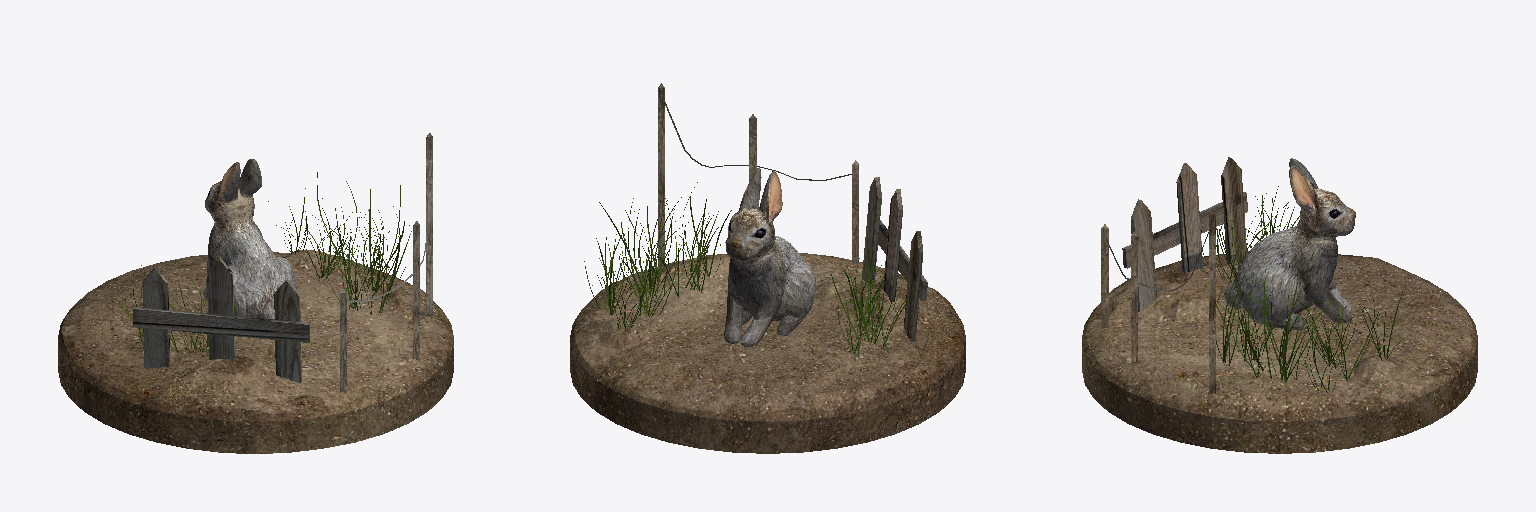
3 views of the same model, side by side, from view 1: azimuth 30°, elevation 25°; view 2: azimuth 150°, elevation 25°; view 3: azimuth 270°, elevation 25° (orthographic).
Parts seen in each view (by area): view 1: group1_plate1, Mesh_group1, group1_polySurface11, group1_polySurface13, group1_polySurface14, group1_polySurface12, group1_polySurface8, group1_polySurface10, group1_polySurface9; view 2: group1_plate1, Mesh_group1, group1_polySurface13, group1_polySurface14, group1_polySurface12, group1_polySurface8, group1_polySurface9, group1_polySurface11; view 3: group1_plate1, Mesh_group1, group1_polySurface13, group1_polySurface14, group1_polySurface12, group1_polySurface8, group1_polySurface11, group1_polySurface10, group1_polySurface9.
Part boxes in pixels (x1,y1,x2,y2): group1_plate1: (58, 250, 453, 453); Mesh_group1: (203, 159, 295, 318); group1_polySurface11: (133, 307, 309, 342); group1_polySurface13: (207, 257, 234, 359); group1_polySurface14: (142, 267, 169, 367); group1_polySurface12: (274, 279, 301, 382); group1_polySurface8: (426, 133, 432, 315); group1_polySurface10: (413, 221, 419, 360); group1_polySurface9: (340, 289, 346, 392); group1_plate1: (570, 253, 965, 453); Mesh_group1: (724, 167, 816, 346); group1_polySurface13: (883, 189, 902, 301); group1_polySurface14: (904, 231, 922, 341); group1_polySurface12: (862, 177, 881, 282); group1_polySurface8: (658, 83, 664, 266); group1_polySurface9: (852, 160, 858, 263); group1_polySurface11: (878, 220, 927, 300); group1_plate1: (1082, 251, 1477, 453); Mesh_group1: (1224, 158, 1355, 330); group1_polySurface13: (1176, 163, 1202, 272); group1_polySurface14: (1221, 157, 1246, 263); group1_polySurface12: (1131, 199, 1156, 311); group1_polySurface8: (1209, 210, 1215, 393); group1_polySurface11: (1122, 192, 1247, 268); group1_polySurface10: (1131, 232, 1137, 371); group1_polySurface9: (1101, 224, 1108, 328).
Bounding box in the file's own units: 38.53 × 24.51 × 38.53.
Materials: 4 (4 with a texture image).